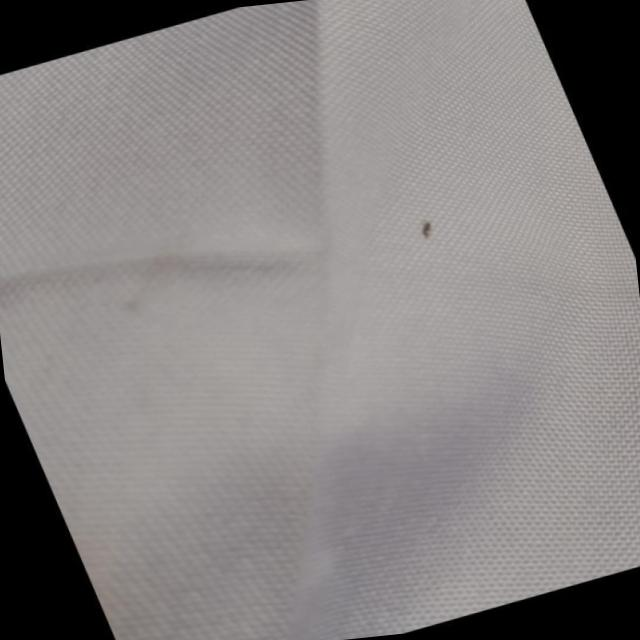stain: (394, 206, 454, 252)
